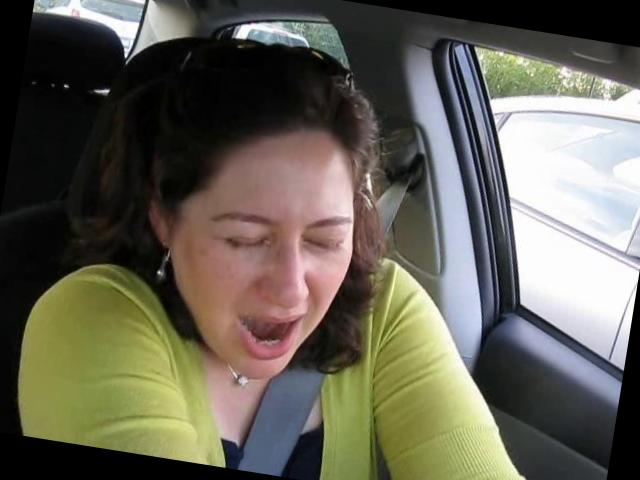eye_closed: (216, 223, 276, 263), (297, 229, 348, 262)
face: (161, 167, 367, 396)
mouth_open: (226, 298, 311, 366)
